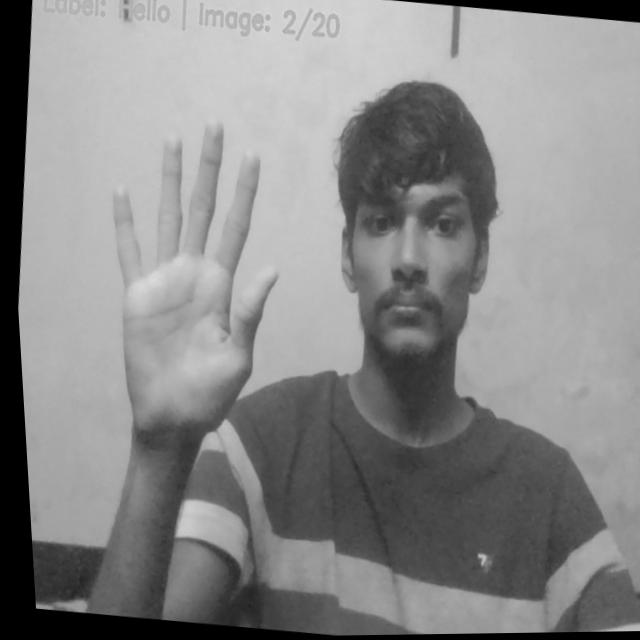Hello: (79, 102, 298, 446)
